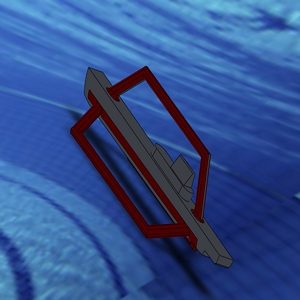submarine: (56, 25, 248, 300)
